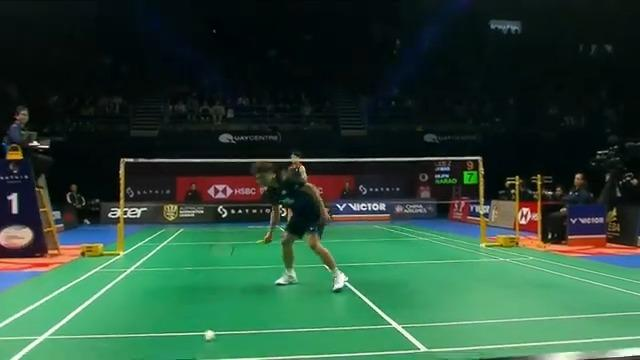Shuttlecock: (202, 328, 216, 346)
